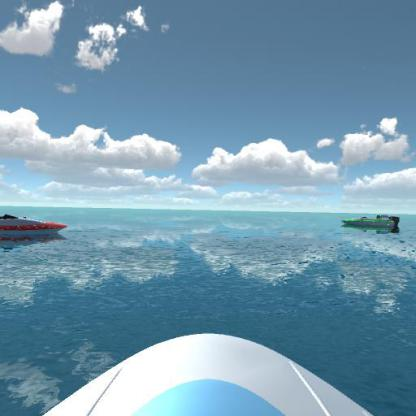usv0: (338, 207, 404, 236)
usv3: (0, 203, 72, 246)
